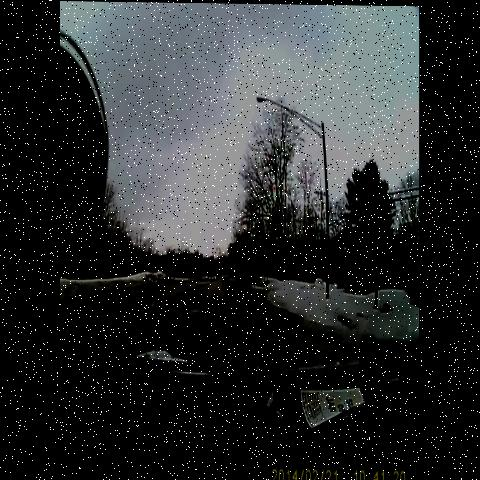pothole: (224, 289, 251, 340), (174, 291, 215, 324), (117, 316, 154, 349)
